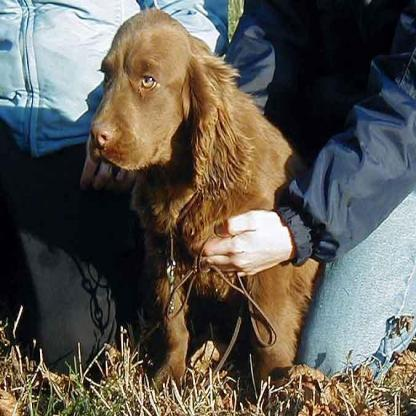Sussex_spaniel: (88, 7, 319, 399)
